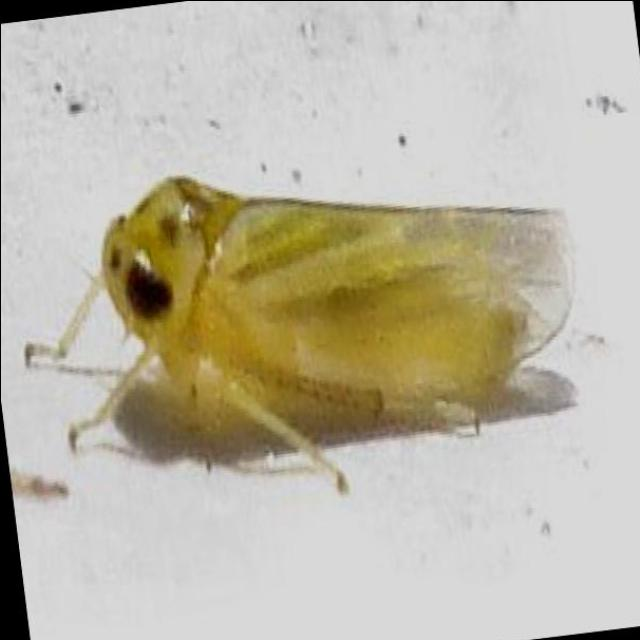green leaf hopper: (23, 175, 571, 490)
